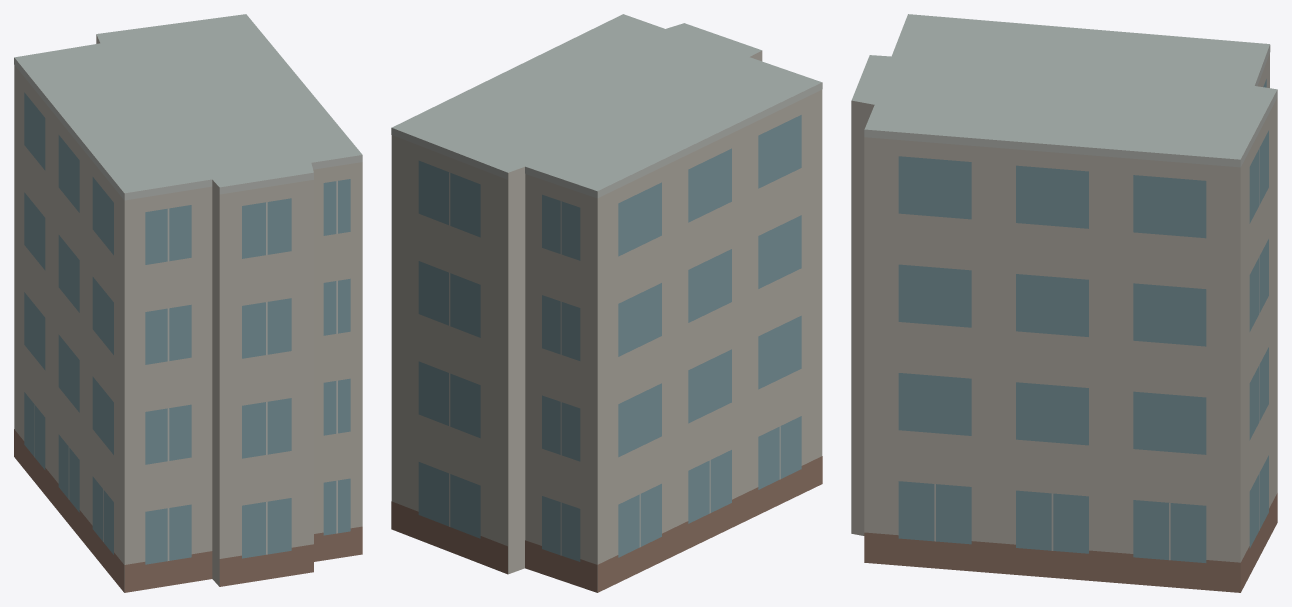
The model's file is survey-upis-32610742.glb.
3 views of the same model, side by side, from view 1: azimuth 30°, elevation 25°; view 2: azimuth 150°, elevation 25°; view 3: azimuth 270°, elevation 25° (orthographic). The views are drawn at different scales.
Parts seen in each view (by area): view 1: survey-upis-32610742.tmp; view 2: survey-upis-32610742.tmp; view 3: survey-upis-32610742.tmp.
Boxes of the visible parts, x1,y1,x2,y2 form: survey-upis-32610742.tmp: (14,14,362,592); survey-upis-32610742.tmp: (391,14,822,592); survey-upis-32610742.tmp: (851,14,1277,592).
Bounding box in the file's own units: 9.85 × 13.65 × 12.18.
